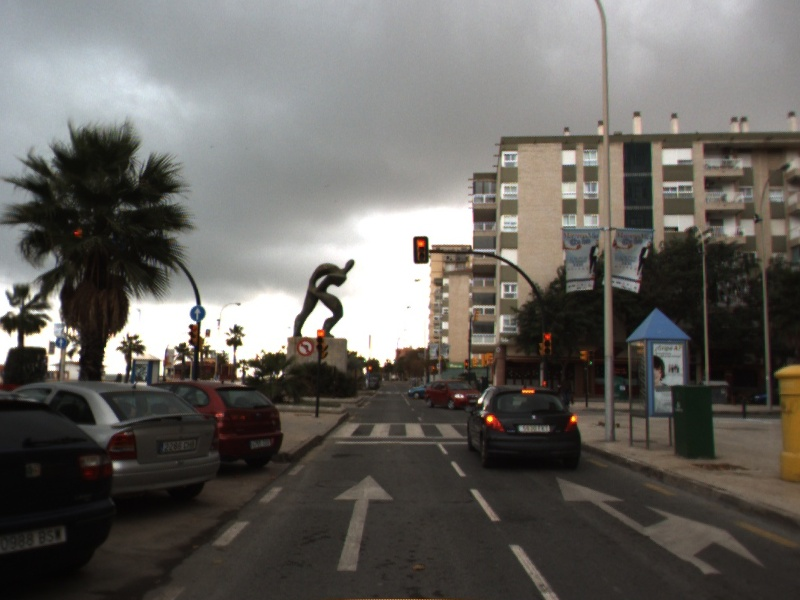STRAIGHT: (331, 473, 395, 573)
STRAIGHT_RIGHT: (554, 474, 770, 575)
